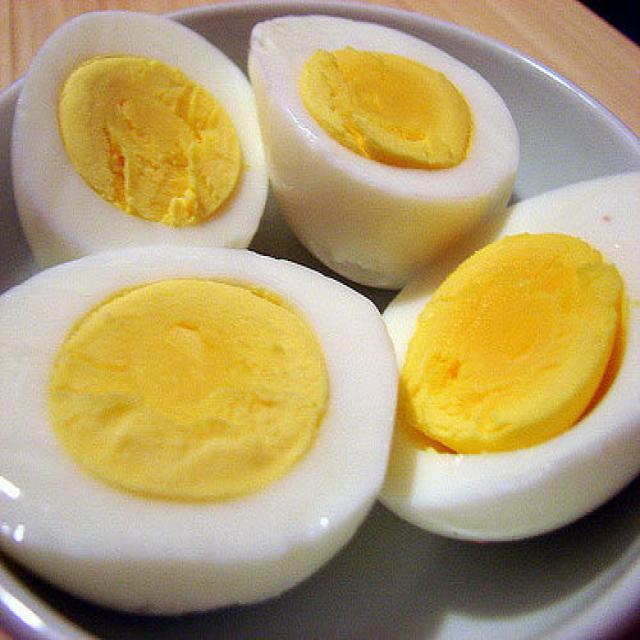trung luoc: (0, 247, 396, 613), (380, 172, 639, 539), (248, 15, 518, 287), (14, 12, 265, 266)
